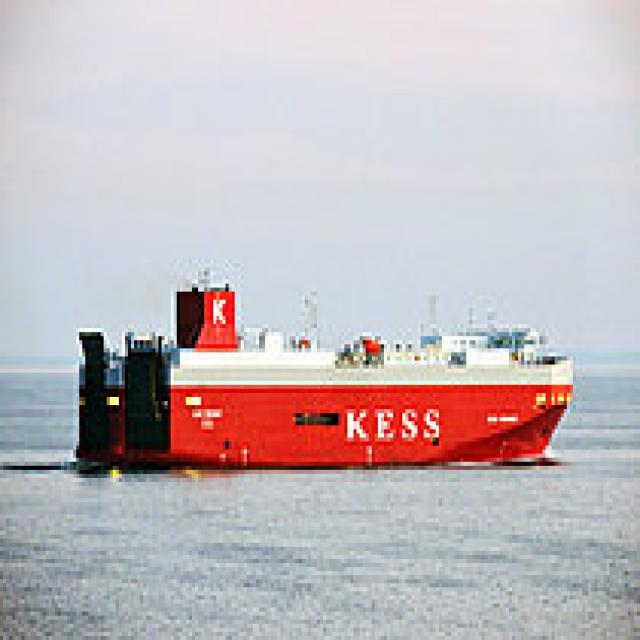Carrier: (70, 263, 573, 470)
